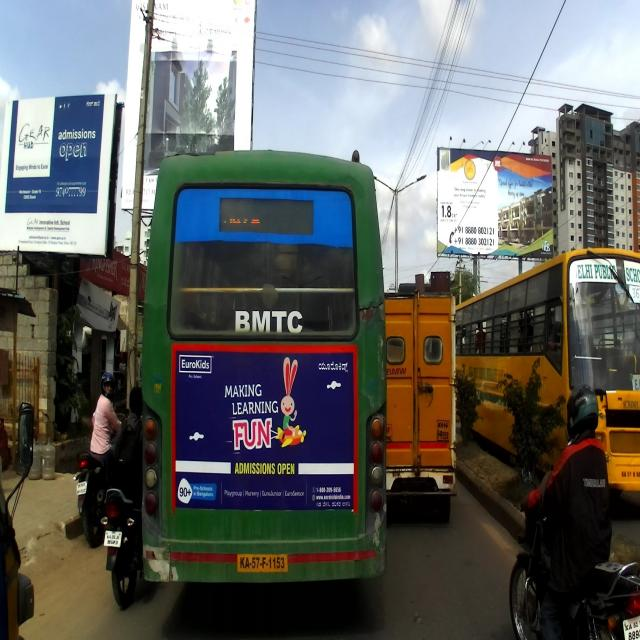bus: (141, 147, 391, 590), (456, 242, 639, 502)
motorcycle_Hero: (506, 461, 638, 638), (98, 442, 148, 610)
